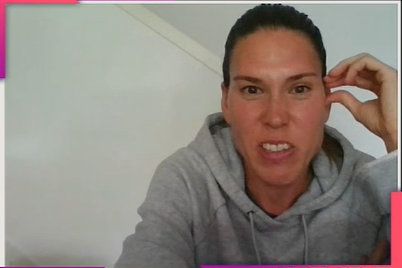person: (111, 3, 397, 267)
